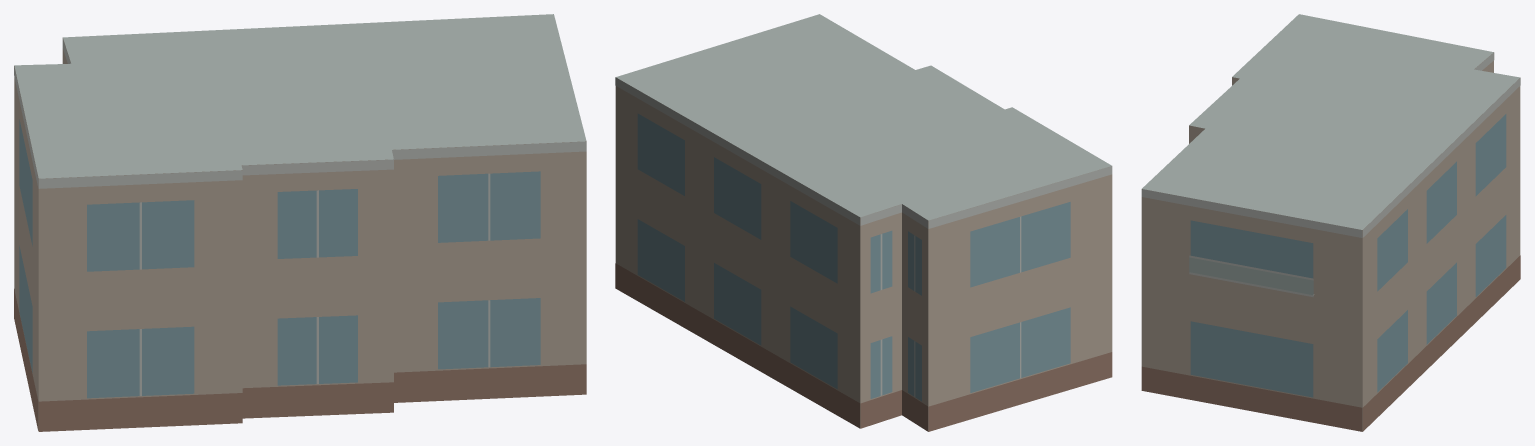
The model's file is survey-upis-32530690.glb.
3 renders of one model, left to right at view 1: azimuth 30°, elevation 25°; view 2: azimuth 150°, elevation 25°; view 3: azimuth 270°, elevation 25°, orthographic. The views are drawn at different scales.
Visible parts, largest first — view 1: survey-upis-32530690.tmp; view 2: survey-upis-32530690.tmp; view 3: survey-upis-32530690.tmp.
Boxes of the visible parts, left/top/right/bottom form: survey-upis-32530690.tmp: left=14, top=14, right=586, bottom=431; survey-upis-32530690.tmp: left=615, top=14, right=1112, bottom=431; survey-upis-32530690.tmp: left=1141, top=14, right=1520, bottom=431.
Bounding box in the file's own units: 14.01 × 6.1 × 10.39.
